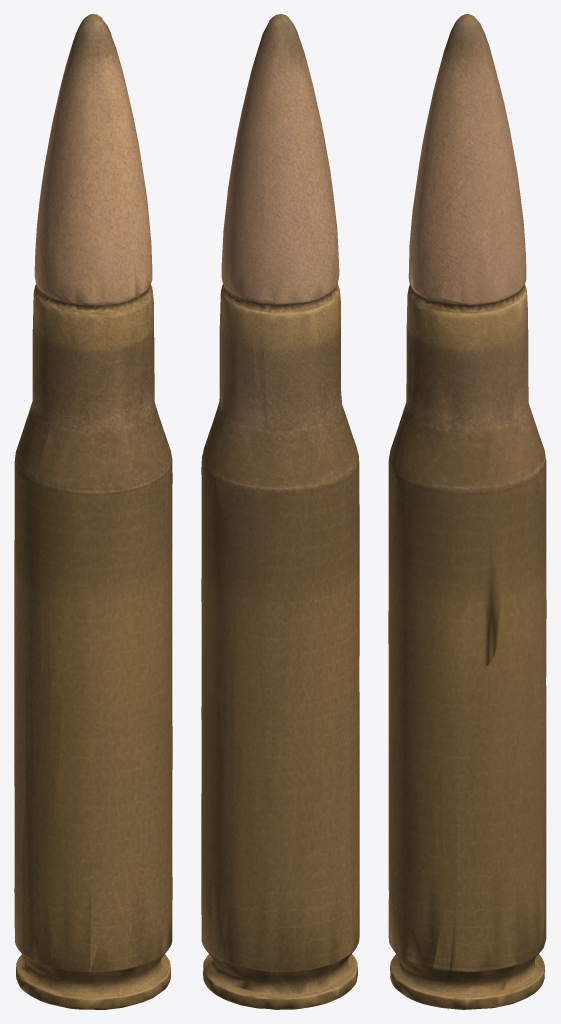
Rendered from Meshy_AI_Bullet_cartridge_0907080638_texture.fbx.
3 renders of one model, left to right at view 1: azimuth 30°, elevation 25°; view 2: azimuth 150°, elevation 25°; view 3: azimuth 270°, elevation 25°, orthographic.
Parts seen in each view (by area): view 1: mesh_node; view 2: mesh_node; view 3: mesh_node.
Part boxes in pixels (x1=…): mesh_node: x1=14, y1=14, x2=172, y2=1009; mesh_node: x1=201, y1=14, x2=359, y2=1009; mesh_node: x1=388, y1=14, x2=546, y2=1009.
Size of the model in its own units: 28.28 by 190 by 28.27.
Materials: 1 (1 with a texture image).
